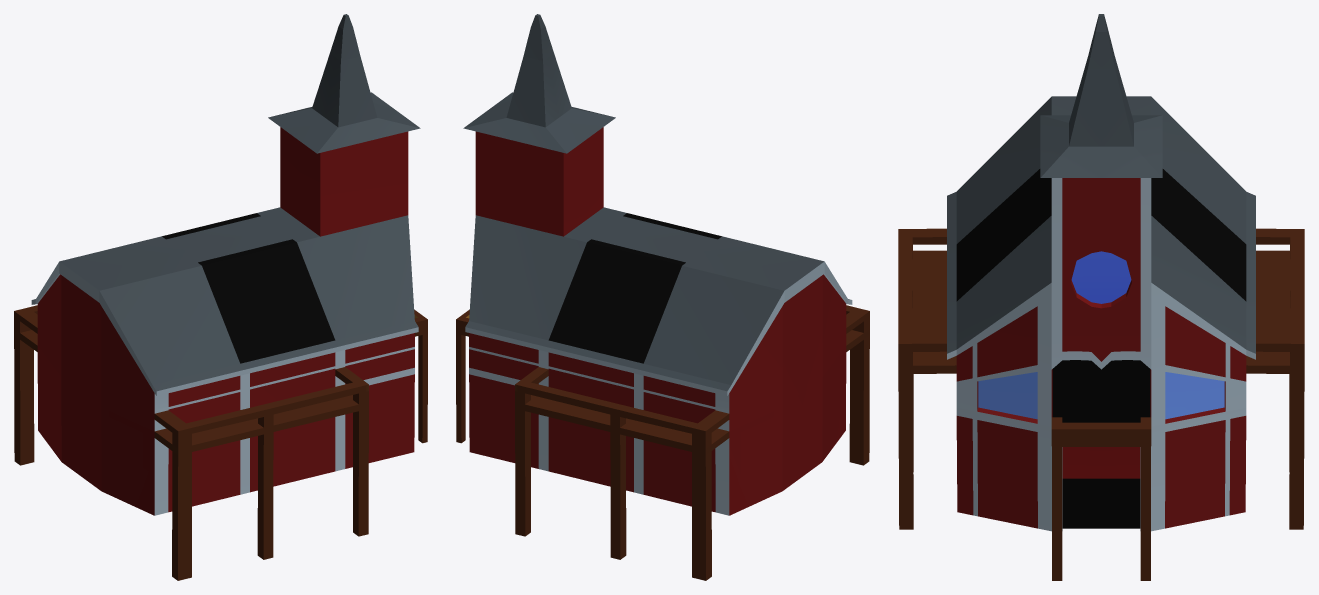
The model's file is iglesia.fbx.
The picture shows the model from 3 angles, left to right: view 1: azimuth 30°, elevation 25°; view 2: azimuth 150°, elevation 25°; view 3: azimuth 270°, elevation 25°; orthographic projection. The views are drawn at different scales.
Parts seen in each view (by area): view 1: Cubo; view 2: Cubo; view 3: Cubo.
Boxes of the visible parts, x1=… form: Cubo: x1=14, y1=14, x2=427, y2=580; Cubo: x1=456, y1=14, x2=869, y2=580; Cubo: x1=898, y1=14, x2=1304, y2=580.
Size of the model in its own units: 359 by 465 by 311.
